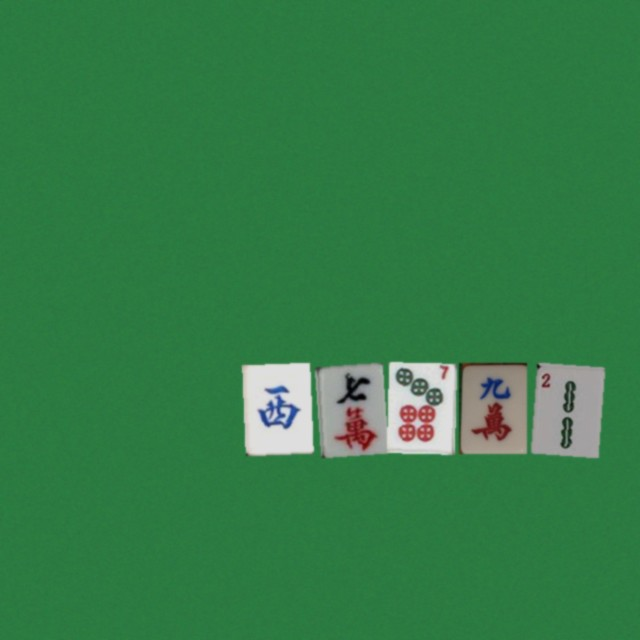tile: (242, 362, 310, 453), (314, 362, 382, 453), (386, 362, 454, 453), (458, 362, 526, 453), (530, 362, 598, 453)
